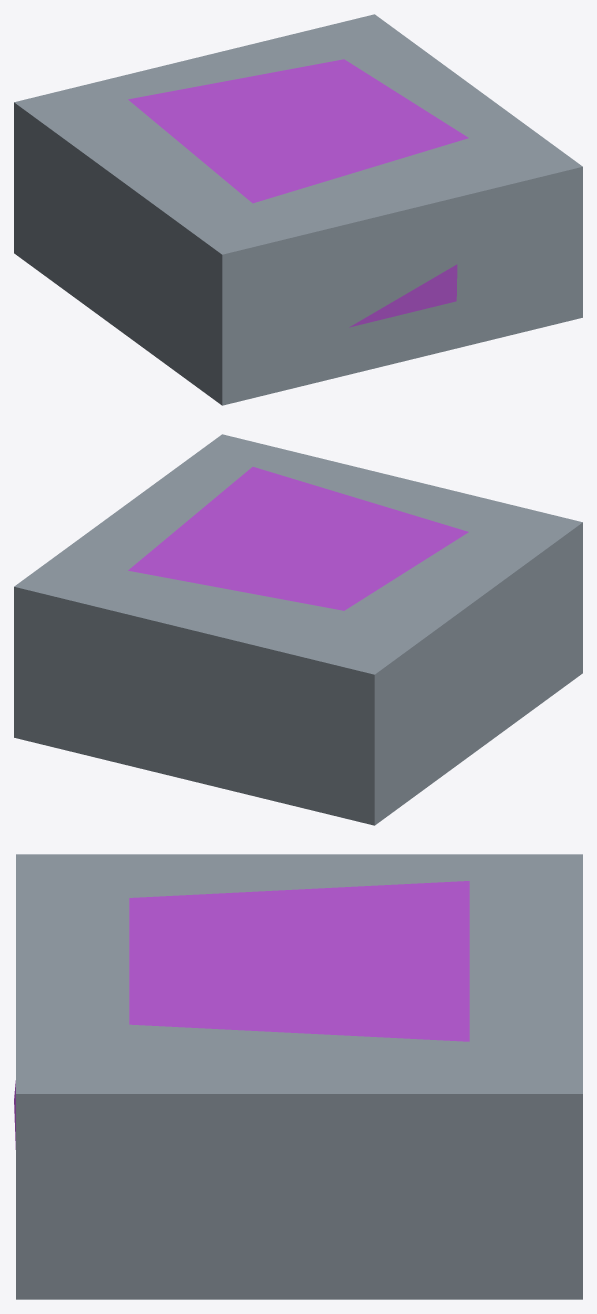
Rendered from CH_NavalYard_LOD1.glb.
3 renders of one model, top to bottom at view 1: azimuth 30°, elevation 25°; view 2: azimuth 150°, elevation 25°; view 3: azimuth 270°, elevation 25°, orthographic. The views are drawn at different scales.
Visible parts, largest first — view 1: EntranceGate; view 2: EntranceGate; view 3: EntranceGate.
Boxes of the visible parts, x1=… form: EntranceGate: x1=14, y1=14, x2=582, y2=405; EntranceGate: x1=14, y1=434, x2=582, y2=825; EntranceGate: x1=14, y1=854, x2=582, y2=1299.
Size of the model in its own units: 1000 by 442 by 1003.
